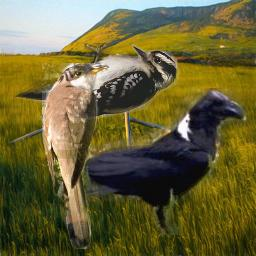Crow: (82, 88, 247, 235)
Cuckoo: (42, 63, 109, 249)
Woodpecker: (13, 43, 188, 125)
